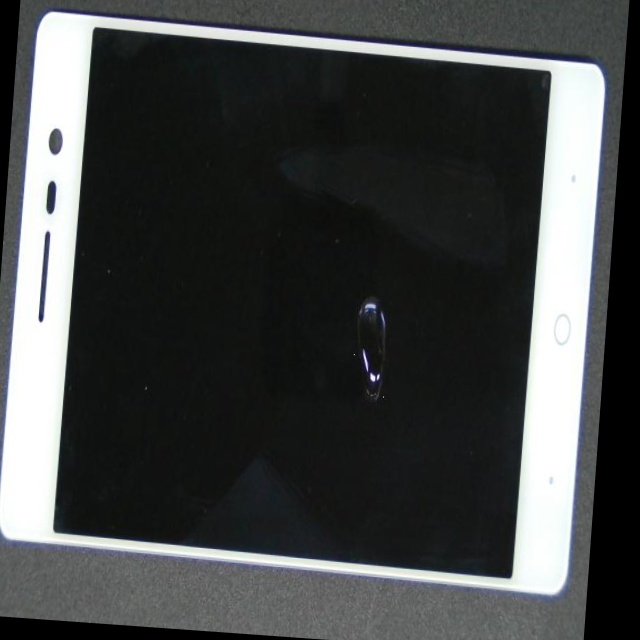oil: (176, 96, 556, 470)
